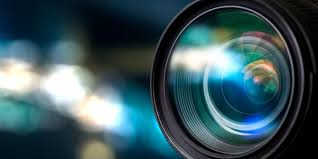camera: (147, 9, 309, 153)
